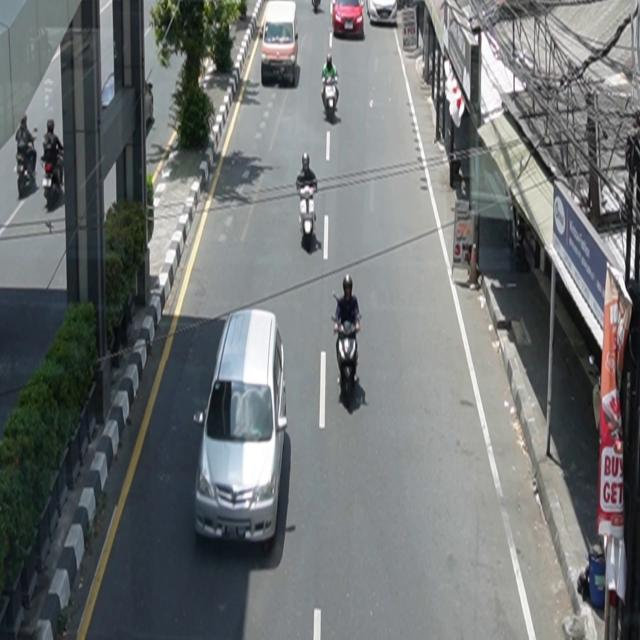car: (194, 309, 289, 553), (260, 1, 300, 88), (332, 1, 366, 37), (367, 1, 398, 26)
